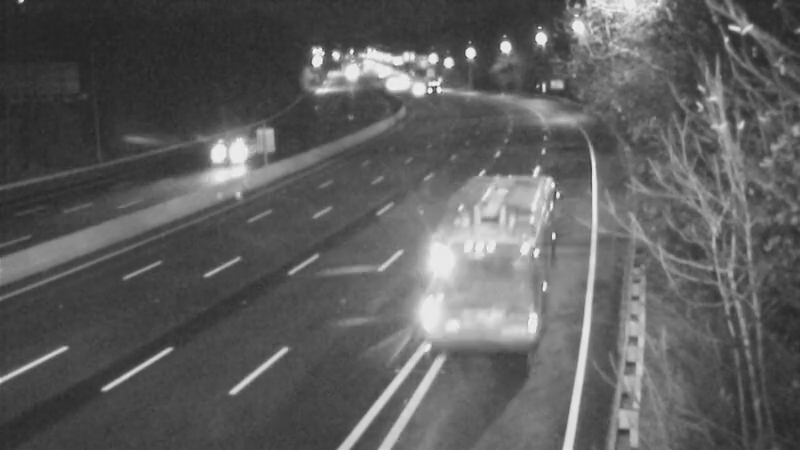vehicle: (454, 205, 534, 285), (190, 113, 270, 193), (366, 58, 416, 108), (401, 59, 451, 109), (391, 65, 441, 115)
